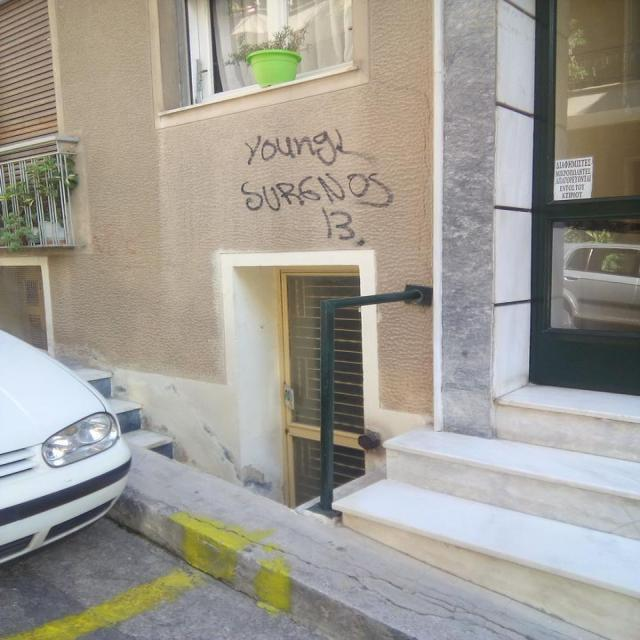nonspitting: (240, 126, 394, 246)
